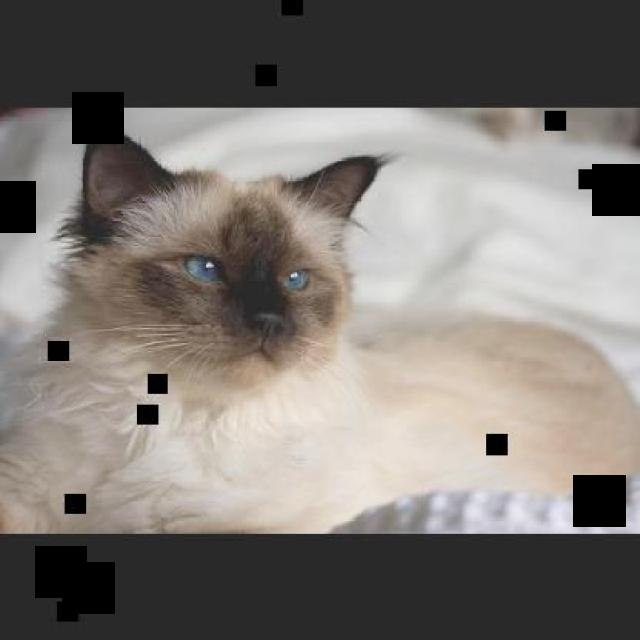unauthorized: (0, 114, 638, 534)
